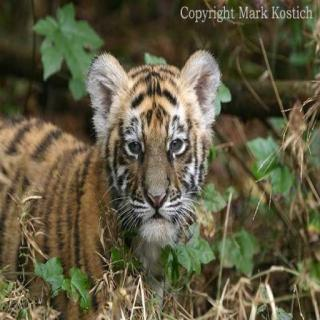Tiger: (0, 43, 227, 304)
